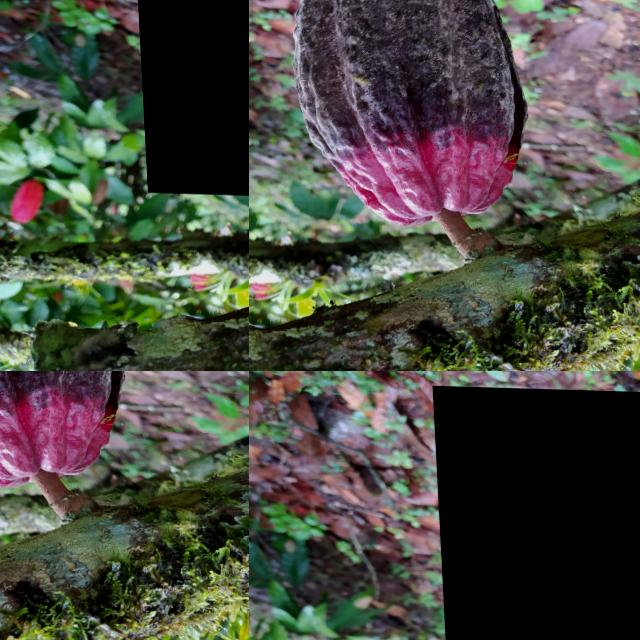Fitoftora: (431, 384, 640, 640)
Monilia: (127, 0, 249, 196)
Sana: (194, 404, 249, 640), (0, 407, 95, 497), (149, 422, 187, 491)
